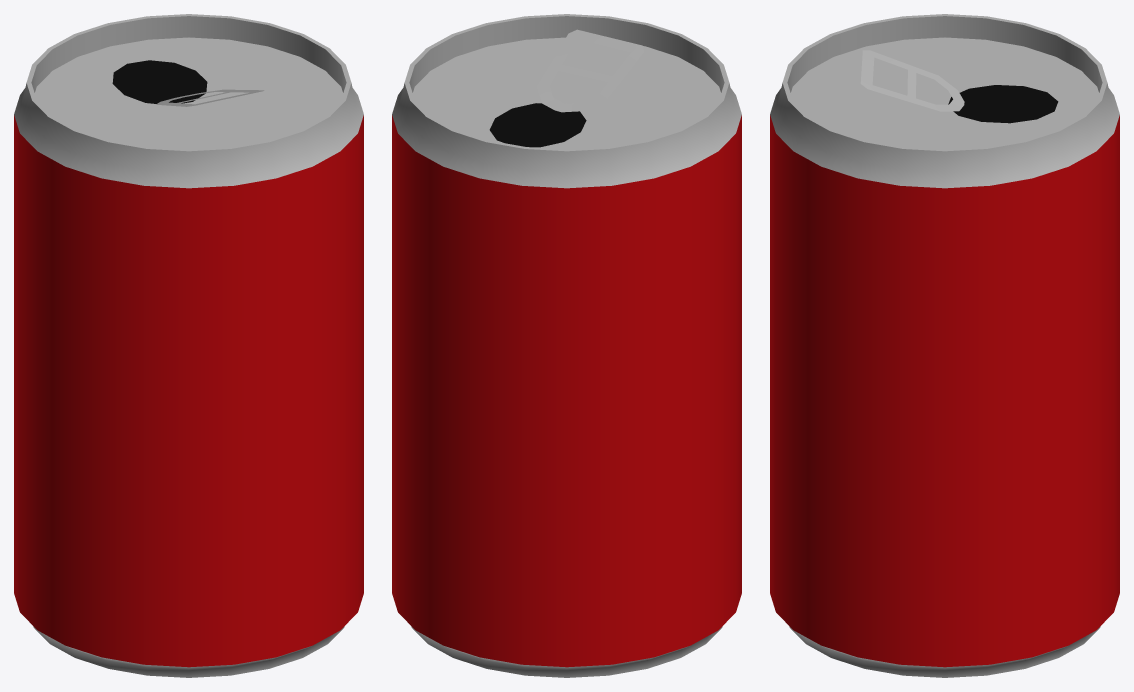
Rendered from Cans_01.fbx.
3 renders of one model, left to right at view 1: azimuth 30°, elevation 25°; view 2: azimuth 150°, elevation 25°; view 3: azimuth 270°, elevation 25°, orthographic.
Visible parts, largest first — view 1: Can_Cola; view 2: Can_Cola; view 3: Can_Cola.
Part boxes in pixels (left/top/right/bottom): Can_Cola: left=14, top=14, right=363, bottom=677; Can_Cola: left=392, top=14, right=741, bottom=677; Can_Cola: left=770, top=14, right=1119, bottom=677.
Bounding box in the file's own units: 9.29 × 15.9 × 9.29.
